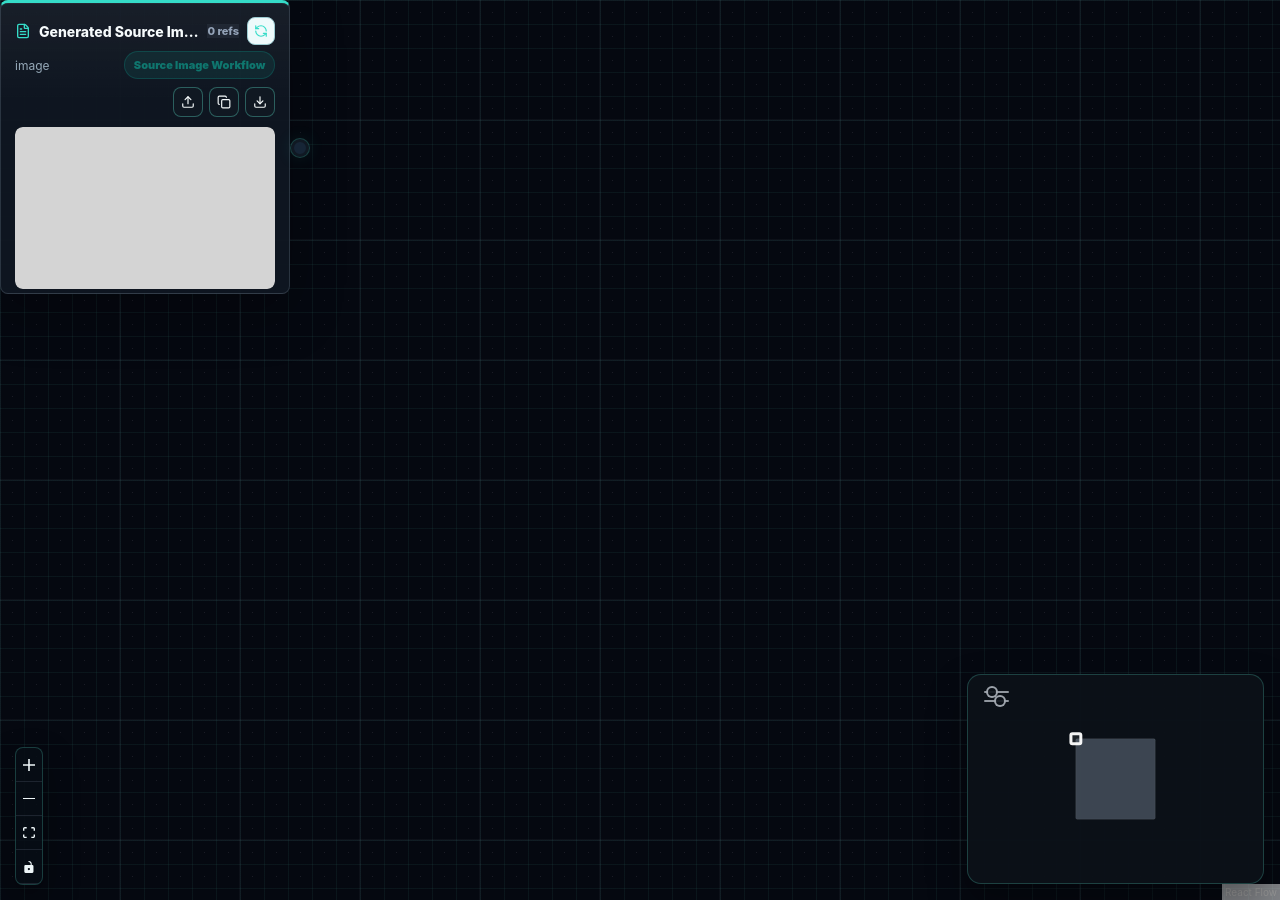
CanvasWorkspace › keeps a historical output linked to function A after its source function node is rebound to function B
The width and height of the screenshot is (1280, 900).
Check: the element with class "react-flow__node" is shown, box [0,0,290,294]
Step 1. Click the button "Source Image Workflow" → (200, 65), box [124,51,275,79]
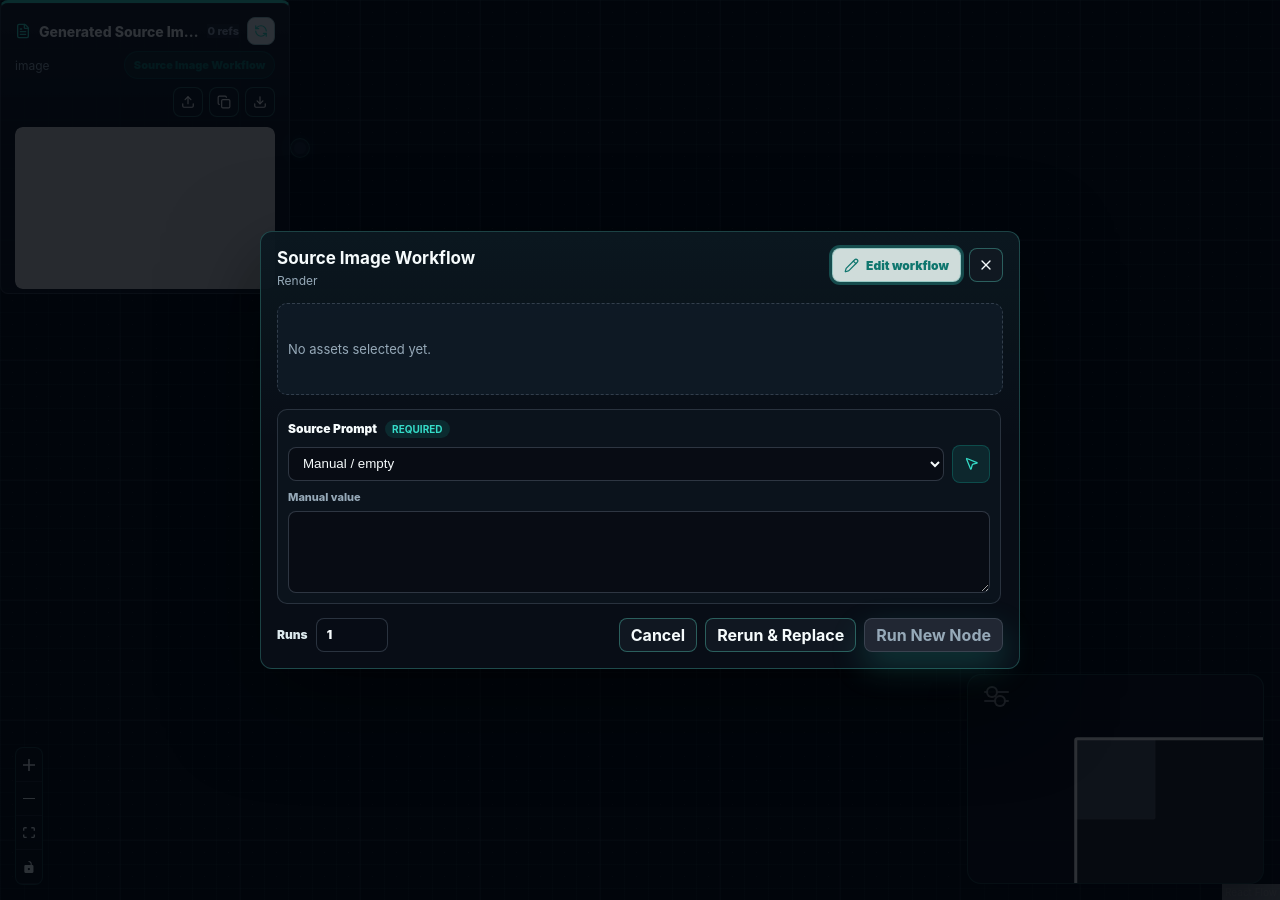
Check: the heading "Source Image Workflow" is shown, box [277,248,475,269]
Check: the text box named "Manual input Source Prompt" is shown, box [288,511,990,593]
Check: the button with aria-label "Edit workflow in ComfyUI" is enabled, box [832,248,961,282]
